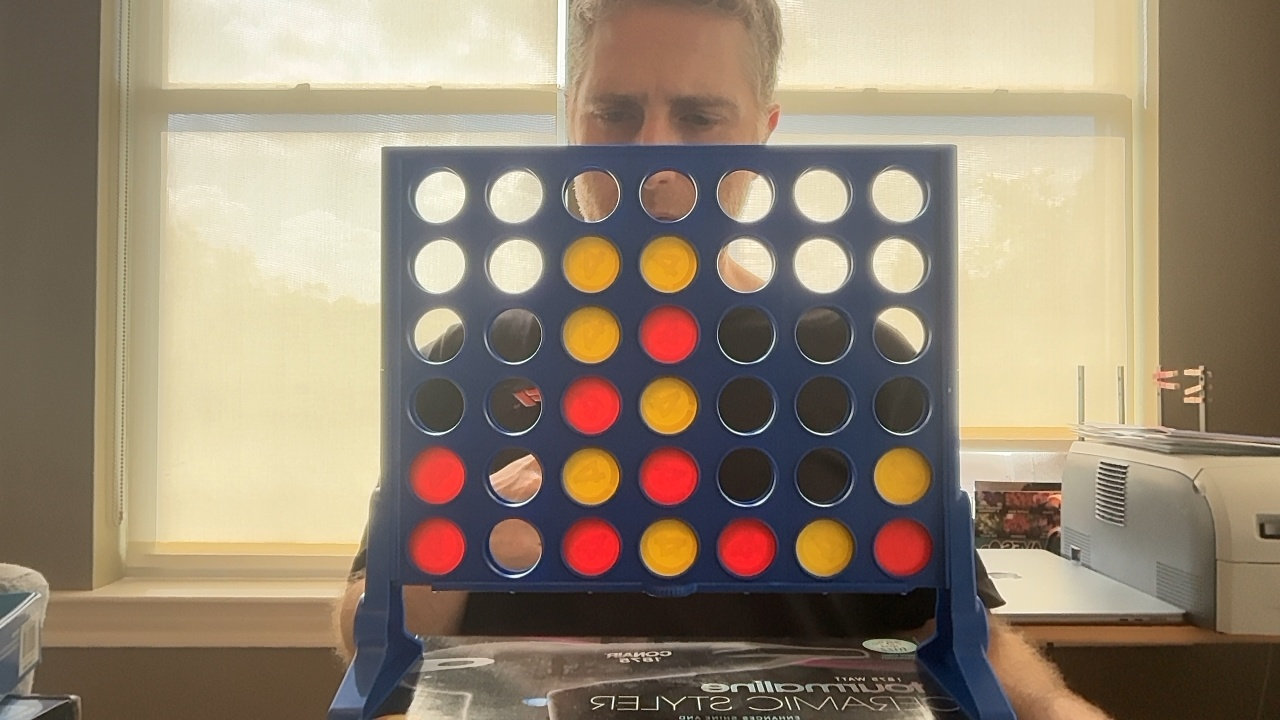red piece: (717, 518, 776, 577), (639, 447, 698, 505), (639, 305, 698, 363), (562, 377, 620, 435), (874, 518, 932, 576), (562, 518, 620, 576), (408, 518, 465, 574), (409, 447, 465, 503)
yellow piece: (795, 519, 854, 577), (640, 519, 698, 577), (639, 377, 697, 434), (562, 448, 620, 505), (563, 306, 620, 363), (874, 447, 930, 505), (640, 236, 697, 292), (563, 236, 620, 292)
